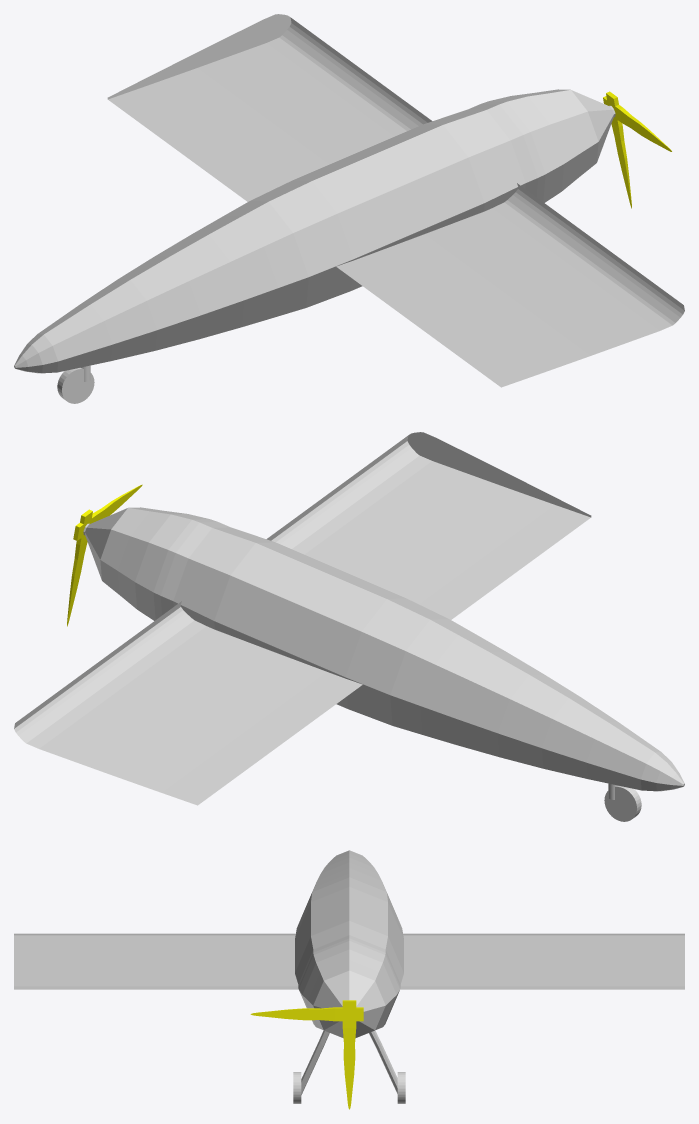
File: faza8_plane_presentable_test.gltf
The picture shows the model from 3 angles, top to bottom: view 1: azimuth 30°, elevation 25°; view 2: azimuth 150°, elevation 25°; view 3: azimuth 270°, elevation 25°; orthographic projection. The views are drawn at different scales.
Parts seen in each view (by area): view 1: Body, Left Wing, Right Wing, Zadnje Kolo, Propeler2, Propeler1; view 2: Body, Right Wing, Left Wing, Zadnje Kolo, Propeler2, Propeler1; view 3: Left Wing, Right Wing, Body, Propeler1, Propeler2, Leva Noga, Desna Noga.
Boxes of the visible parts, bbox=[...] form: Body: bbox=[14, 89, 615, 373]; Left Wing: bbox=[336, 183, 684, 387]; Right Wing: bbox=[107, 14, 432, 201]; Zadnje Kolo: bbox=[57, 367, 94, 403]; Propeler2: bbox=[606, 91, 631, 208]; Propeler1: bbox=[603, 96, 671, 151]; Body: bbox=[83, 507, 684, 791]; Right Wing: bbox=[14, 601, 362, 805]; Left Wing: bbox=[266, 432, 591, 619]; Zadnje Kolo: bbox=[604, 785, 641, 821]; Propeler2: bbox=[67, 509, 92, 626]; Propeler1: bbox=[73, 484, 142, 540]; Left Wing: bbox=[14, 933, 298, 989]; Right Wing: bbox=[400, 933, 684, 989]; Body: bbox=[295, 850, 403, 1038]; Propeler1: bbox=[250, 1007, 363, 1021]; Propeler2: bbox=[342, 1000, 356, 1109]; Leva Noga: bbox=[301, 1030, 329, 1094]; Desna Noga: bbox=[369, 1030, 397, 1093].
Size of what is drawn, in the model's own units: 13.95 by 4.21 by 15.41.
